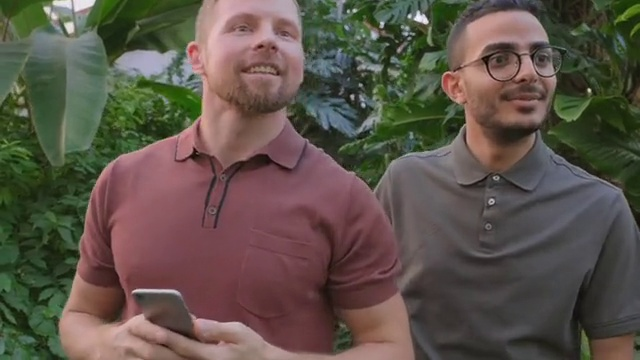phone: (128, 284, 201, 344)
